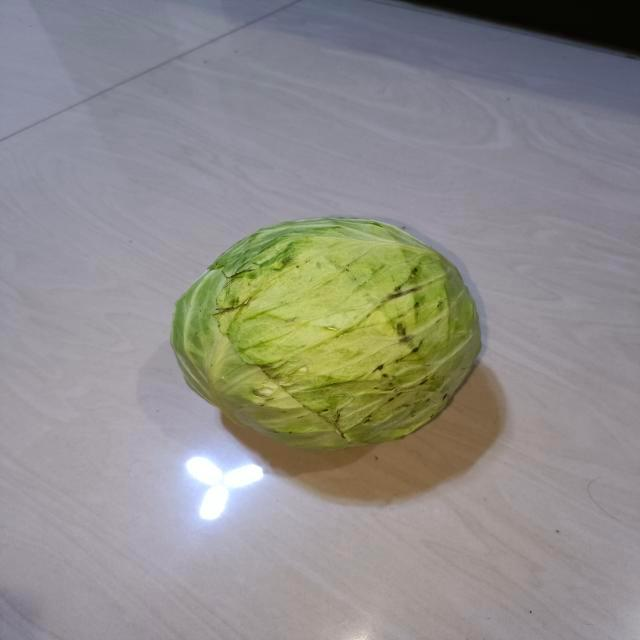cabbage: (168, 214, 483, 450)
